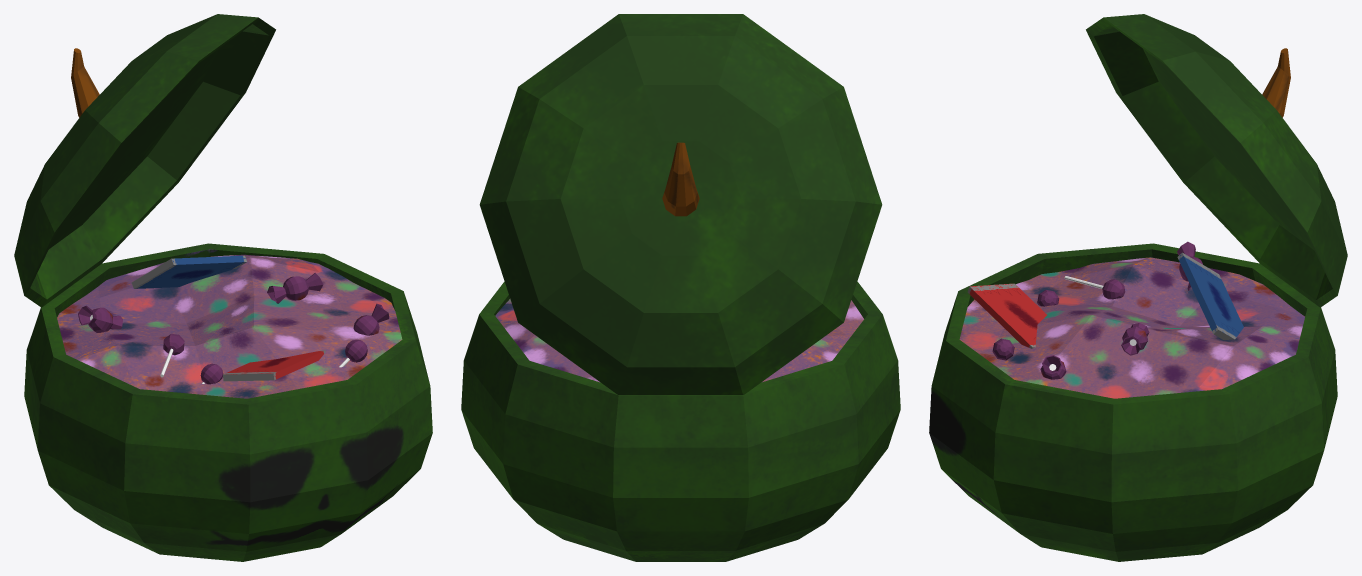
Rendered from CandyBowl2.fbx.
The picture shows the model from 3 angles, left to right: view 1: azimuth 30°, elevation 25°; view 2: azimuth 150°, elevation 25°; view 3: azimuth 270°, elevation 25°; orthographic projection. The views are drawn at different scales.
Visible parts, largest first — view 1: CandyBowl02_Model; view 2: CandyBowl02_Model; view 3: CandyBowl02_Model.
Part boxes in pixels (x1,y1,x2,y2): CandyBowl02_Model: [14, 14, 432, 561]; CandyBowl02_Model: [461, 14, 900, 561]; CandyBowl02_Model: [929, 14, 1347, 561].
Size of the model in its own units: 27.08 by 27.09 by 33.19.
